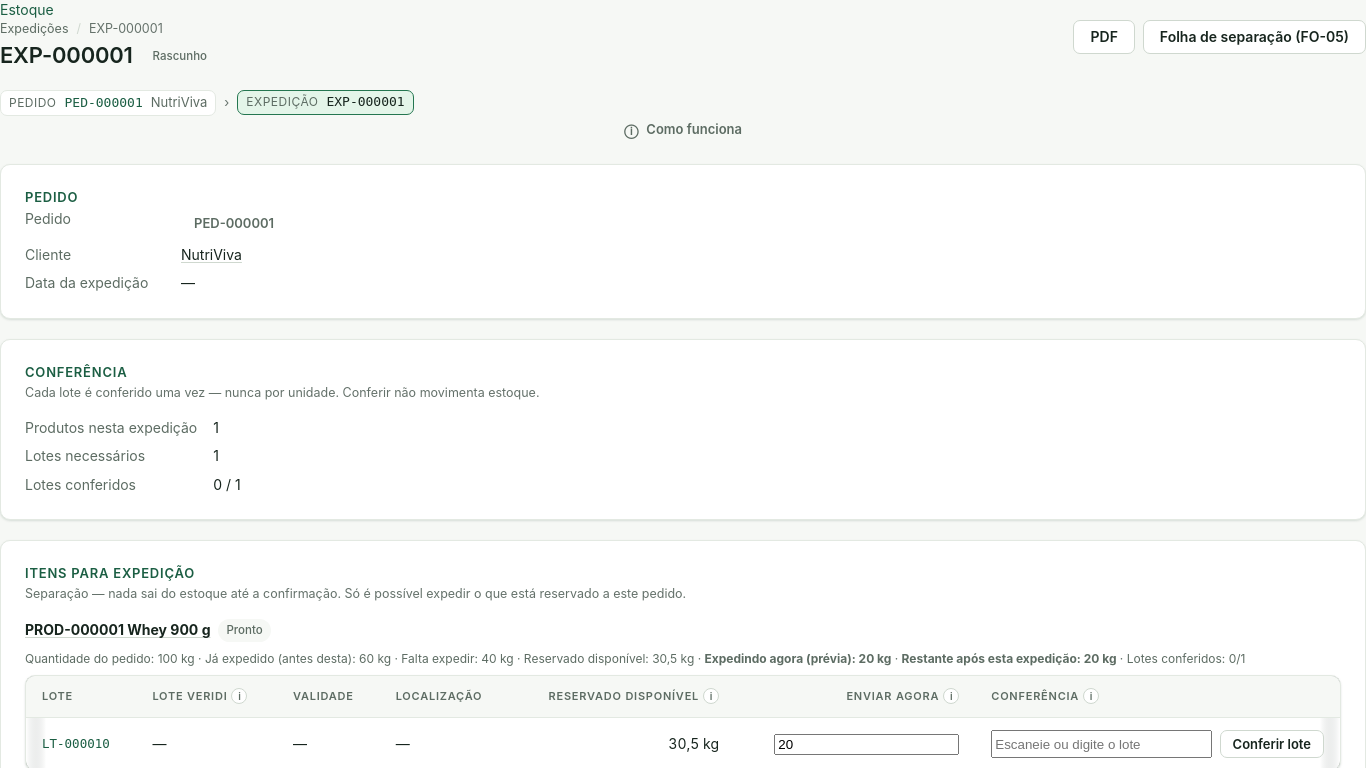
Scenario: Expedição — guarda de alterações não salvas › o lote digitado para conferir não é pendência
Expected: the heading "EXP-000001" is shown, [0, 42, 133, 70]
Type "LT-000010" into the field named "Lote conferido da linha LT-000010". click: (1101, 744)
box: [991, 730, 1212, 758]
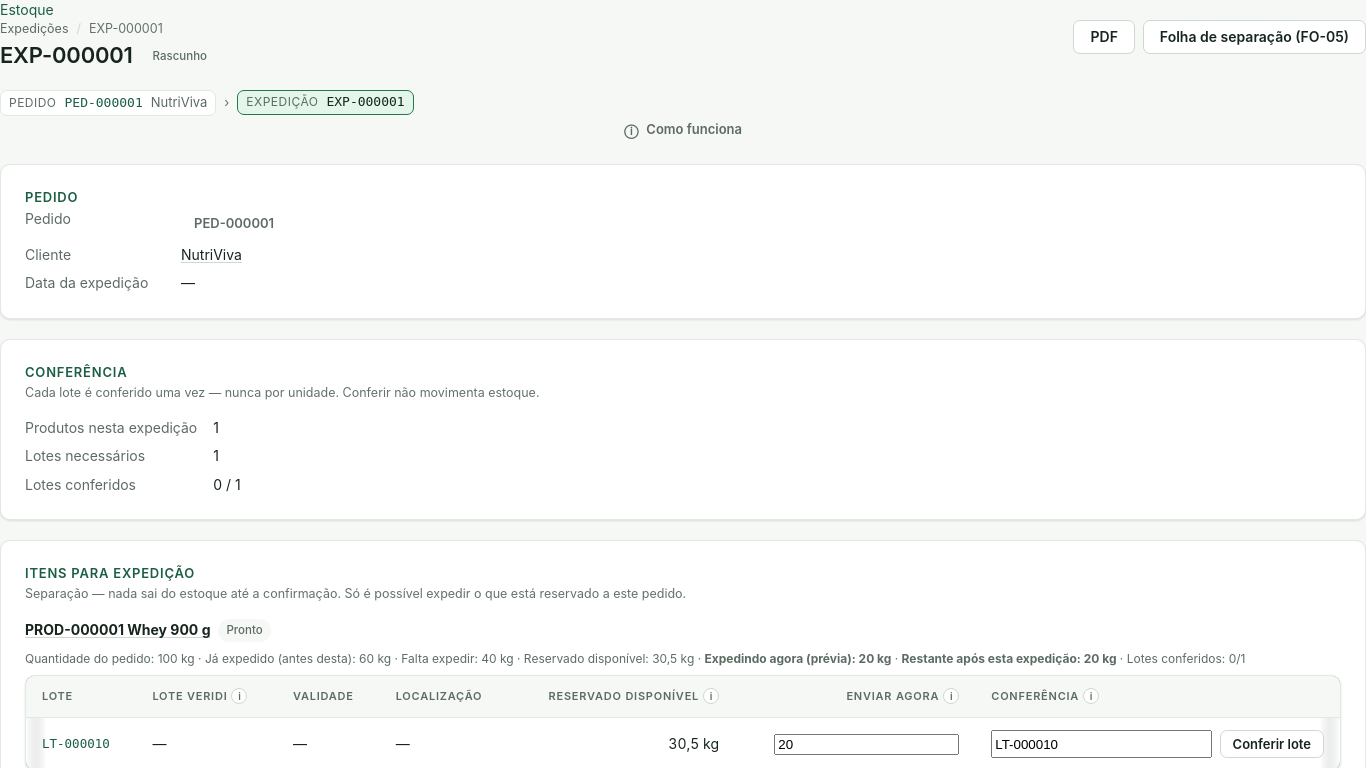
Click the link "Estoque". click: click(27, 10)
box: [0, 1, 54, 18]
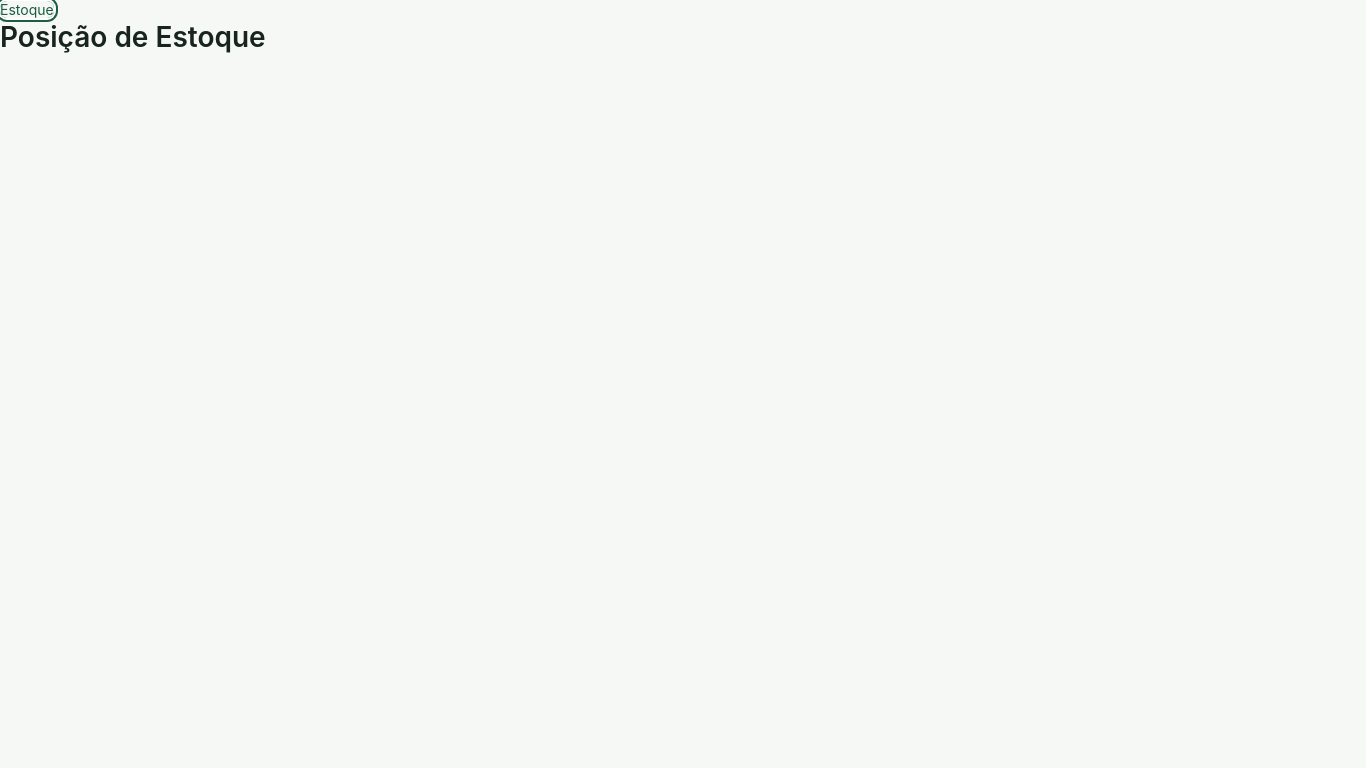
Expected: the heading "Posição de Estoque" is shown, [0, 20, 266, 54]
